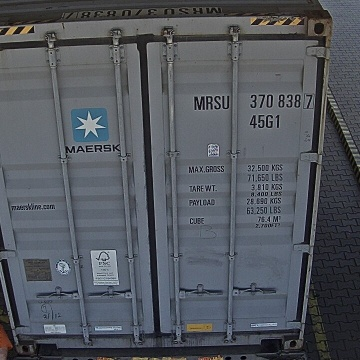serial_id: (195, 93, 313, 109)
